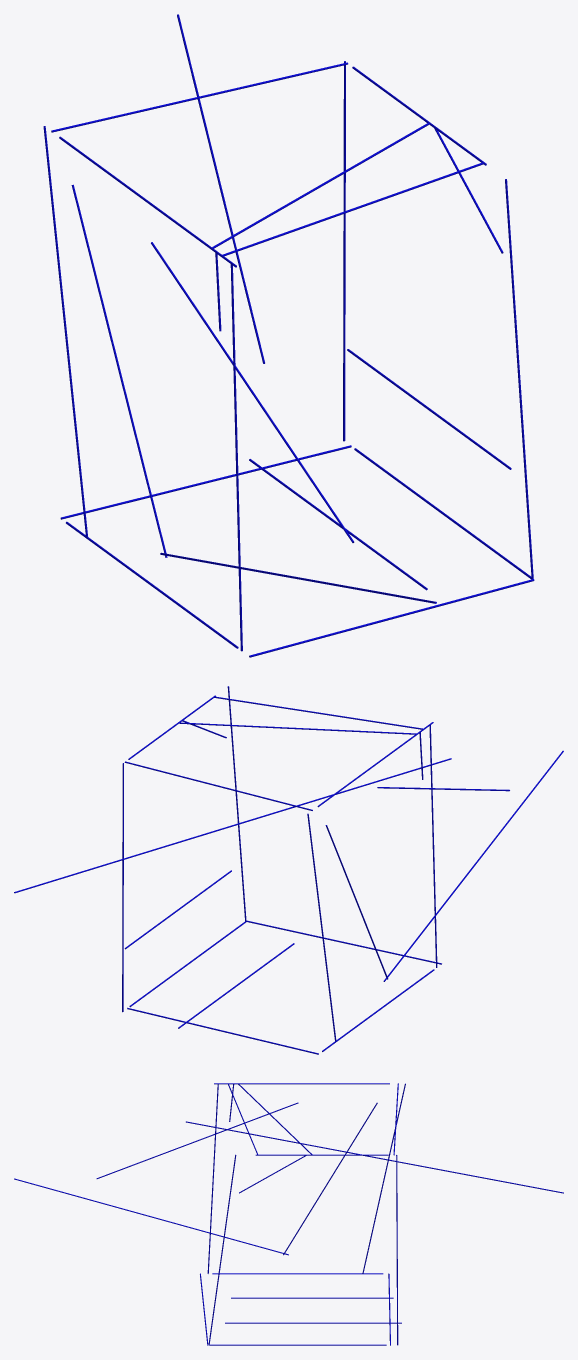
File: corrected_3d_strokes.glb
3 renders of one model, top to bottom at view 1: azimuth 30°, elevation 25°; view 2: azimuth 150°, elevation 25°; view 3: azimuth 270°, elevation 25°, orthographic. The views are drawn at different scales.
Parts seen in each view (by area): view 1: world; view 2: world; view 3: world.
Part boxes in pixels (x1,y1,x2,y2): world: [43, 14, 534, 657]; world: [14, 686, 563, 1054]; world: [14, 1083, 563, 1345].
Size of the model in its own units: 5.93 by 7.37 by 19.22.
